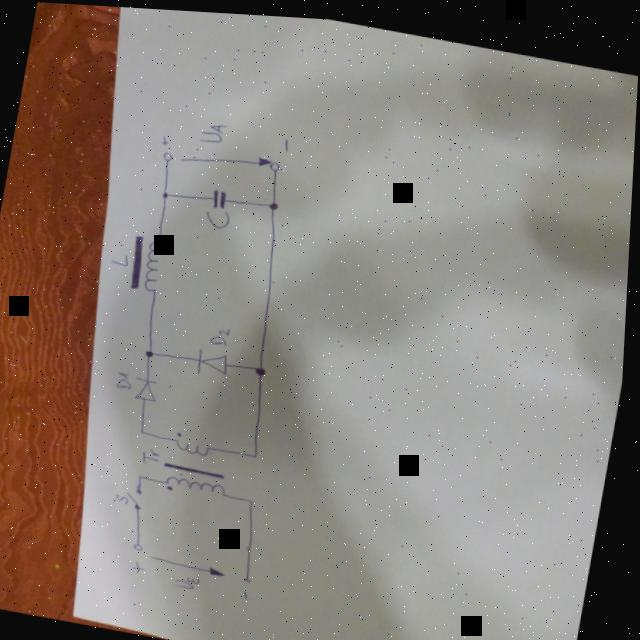capacitor: (211, 184, 230, 207)
diode: (195, 344, 234, 375), (132, 373, 165, 402)
inductor: (126, 231, 168, 293)
junction: (255, 361, 271, 373), (145, 345, 159, 358), (267, 196, 281, 208), (159, 186, 172, 198), (141, 424, 150, 434), (140, 470, 149, 478), (251, 494, 260, 502), (254, 448, 263, 456)
switch: (128, 483, 150, 508)
terminal: (161, 146, 175, 160), (136, 538, 149, 551), (269, 156, 282, 169), (247, 571, 257, 581)
text: (196, 117, 228, 143), (205, 203, 234, 228), (176, 568, 207, 589), (209, 321, 234, 346), (116, 367, 138, 390), (109, 246, 133, 267), (144, 444, 165, 463), (118, 489, 134, 503)
transformer: (160, 425, 242, 499)
